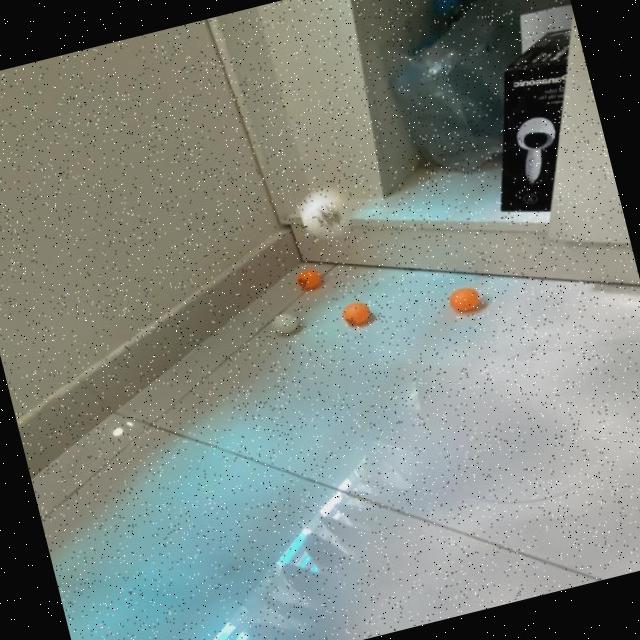ping-pong-ball: (297, 190, 356, 244), (337, 298, 372, 329), (445, 286, 478, 316), (268, 311, 300, 338), (294, 268, 320, 293)
